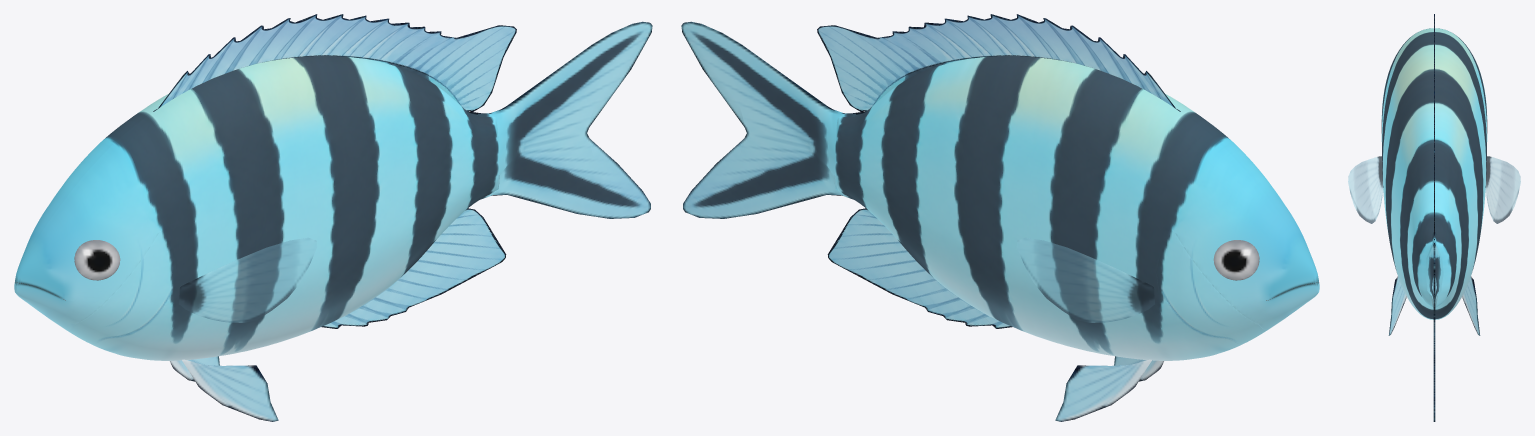
Rendered from rokusen-normal-v5.glb.
3 renders of one model, left to right at view 1: azimuth 30°, elevation 25°; view 2: azimuth 150°, elevation 25°; view 3: azimuth 270°, elevation 25°, orthographic. The views are drawn at different scales.
Parts seen in each view (by area): view 1: body, caudal, dorsal, pectoral_1, anal, operculum_1, pelvic_1, eye_1; view 2: body, caudal, dorsal, pectoral_-1, anal, operculum_-1, pelvic_-1, eye_-1; view 3: body, pectoral_-1, pectoral_1, caudal, pelvic_-1, pelvic_1, dorsal.
Boxes of the visible parts, x1,y1,x2,y2 form: body: (14,56,499,360); caudal: (478,21,652,218); dorsal: (153,14,516,115); pectoral_1: (179,237,316,322); anal: (322,195,506,328); operculum_1: (65,229,177,343); pelvic_1: (182,359,278,421); eye_1: (74,240,120,280); body: (834,56,1319,360); caudal: (681,21,855,218); dorsal: (817,14,1180,115); pectoral_-1: (1017,237,1154,322); anal: (827,195,1011,328); operculum_-1: (1156,229,1268,343); pelvic_-1: (1055,359,1151,421); eye_-1: (1213,240,1259,280); body: (1381,28,1487,319); pectoral_-1: (1485,156,1520,223); pectoral_1: (1348,156,1383,223); caudal: (1425,232,1443,421); pelvic_-1: (1462,276,1480,335); pelvic_1: (1388,276,1406,335); dorsal: (1434,14,1434,244).
Bounding box in the file's own units: 0.1801 × 0.1012 × 0.0497.
5 materials, 5 textured.
